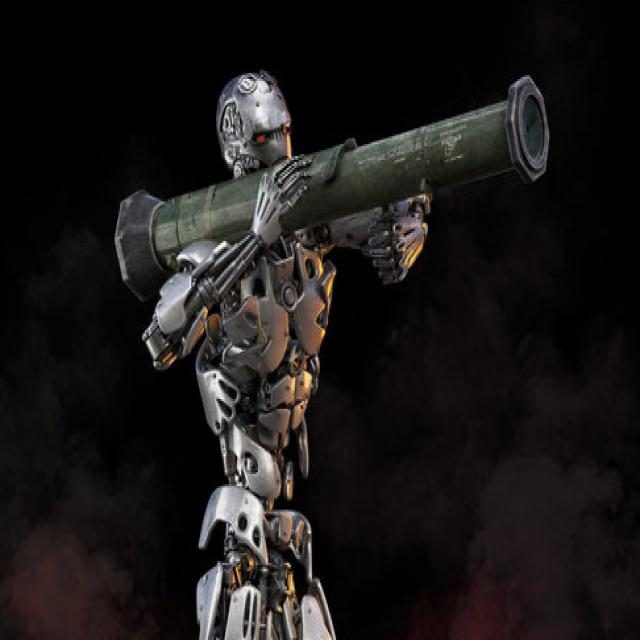Weapon: (283, 77, 548, 231)
